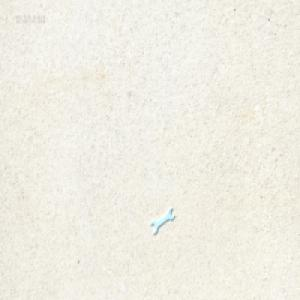Wrench: (152, 205, 176, 234)
